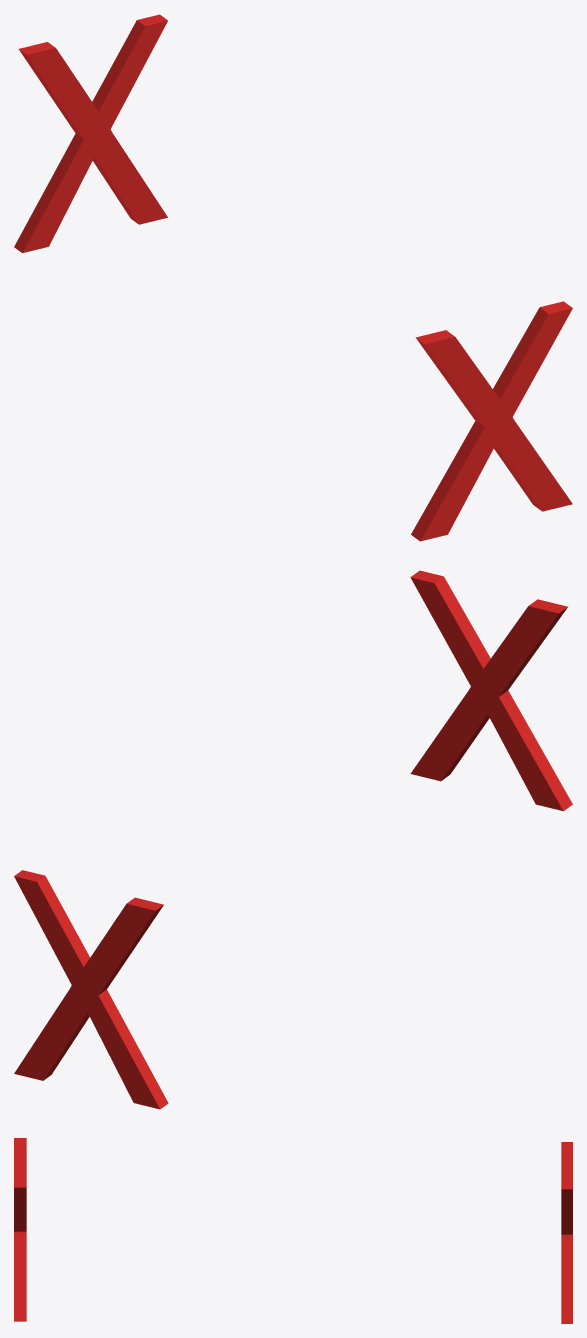
3 renders of one model, top to bottom at view 1: azimuth 30°, elevation 25°; view 2: azimuth 150°, elevation 25°; view 3: azimuth 270°, elevation 25°, orthographic. The views are drawn at different scales.
Visible parts, largest first — view 1: instance_0, instance_0001; view 2: instance_0, instance_0001; view 3: instance_0, instance_0001.
Part boxes in pixels (left/top/right/bottom): instance_0: left=411, top=301, right=572, bottom=541; instance_0001: left=14, top=14, right=167, bottom=252; instance_0: left=410, top=570, right=572, bottom=811; instance_0001: left=14, top=870, right=168, bottom=1109; instance_0: left=14, top=1138, right=26, bottom=1321; instance_0001: left=561, top=1142, right=572, bottom=1323.
Size of the model in its own units: 0.5504 by 0.6938 by 2.55.
Materials: 2 (2 with a texture image).
